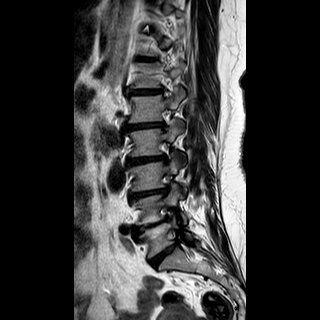LFS0: (153, 102, 179, 135)
LFS1: (153, 136, 177, 168)
LFS2: (152, 169, 180, 200)
